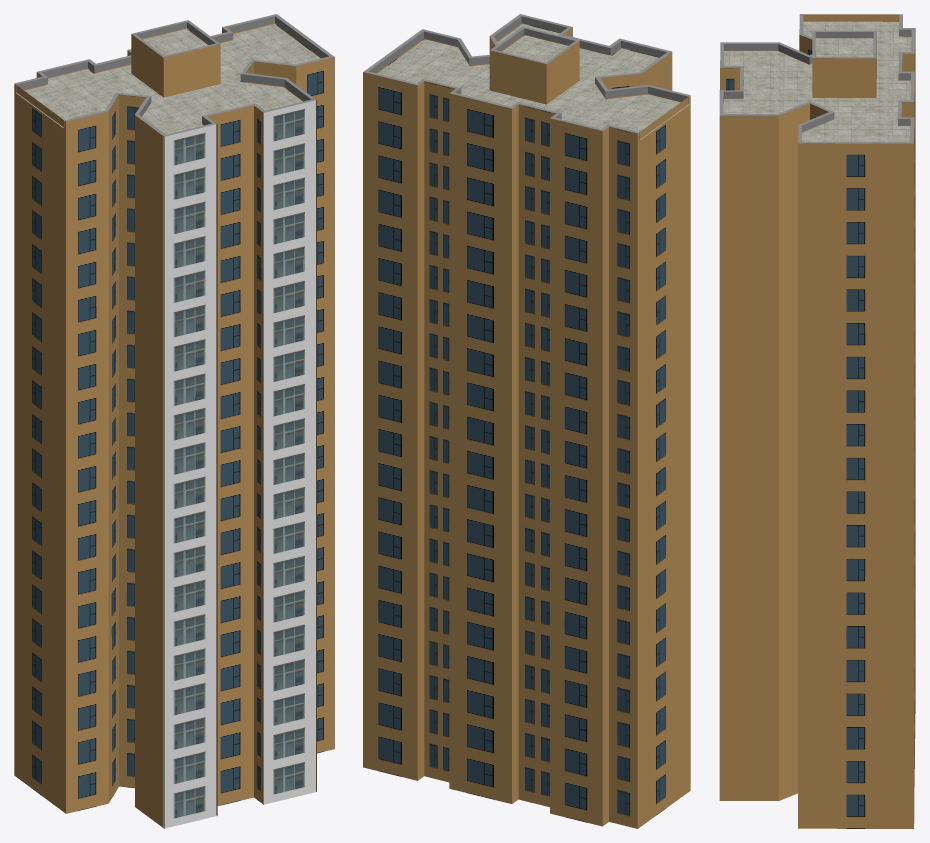
The model's file is 09_jianzhu_init.FBX.
3 views of the same model, side by side, from view 1: azimuth 30°, elevation 25°; view 2: azimuth 150°, elevation 25°; view 3: azimuth 270°, elevation 25° (orthographic).
Parts seen in each view (by area): view 1: 09_jianzhu_init; view 2: 09_jianzhu_init; view 3: 09_jianzhu_init.
Boxes of the visible parts, left/top/right/bottom form: 09_jianzhu_init: left=14, top=14, right=334, bottom=828; 09_jianzhu_init: left=363, top=14, right=690, bottom=828; 09_jianzhu_init: left=719, top=14, right=915, bottom=828.
Size of the model in its own units: 2286 by 5894 by 1455.
